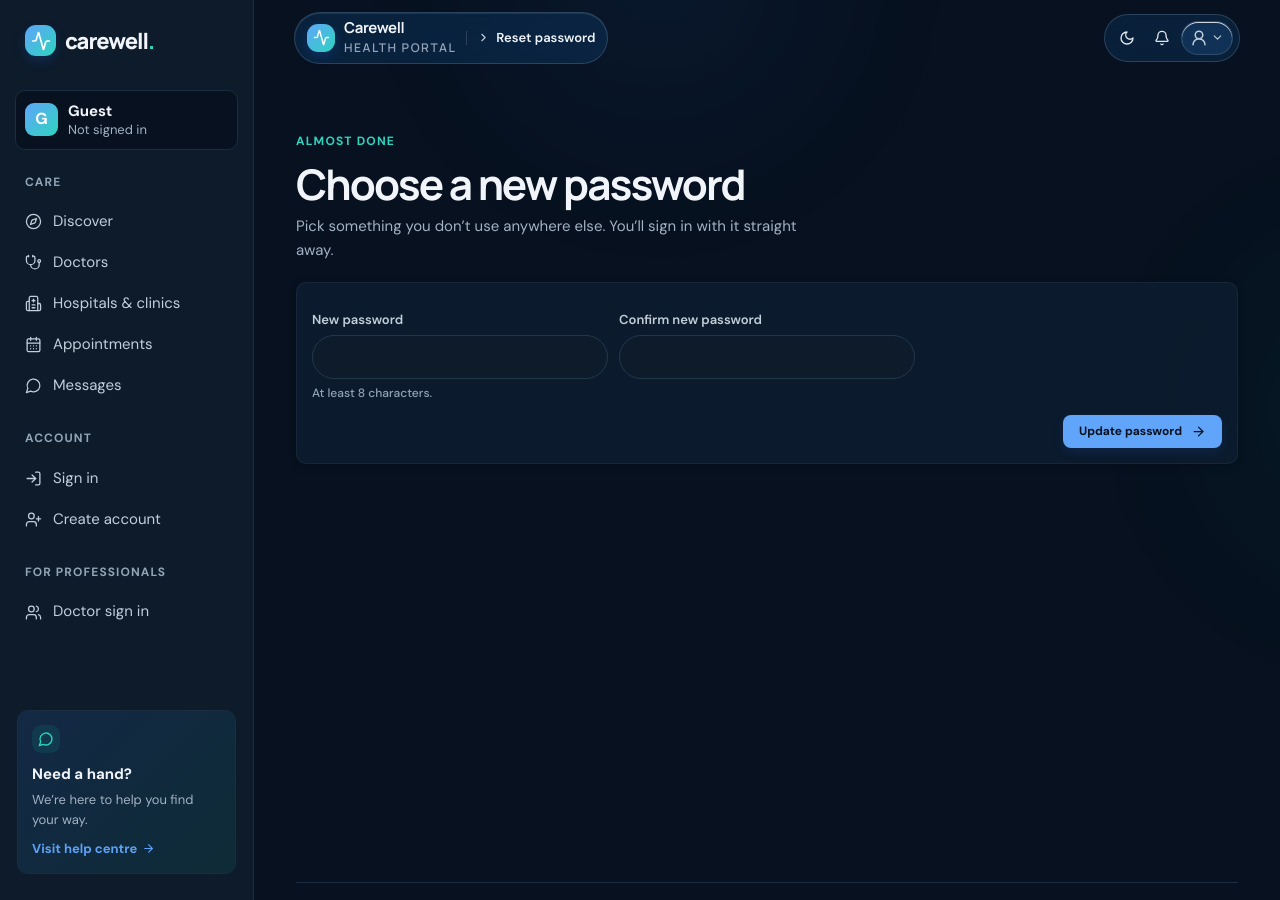
reset password screen › checks the new password before submitting
The width and height of the screenshot is (1280, 900).
Type "short" into the password field labelled "New password At least 8 characters." at (460, 357), box [312, 335, 608, 379]
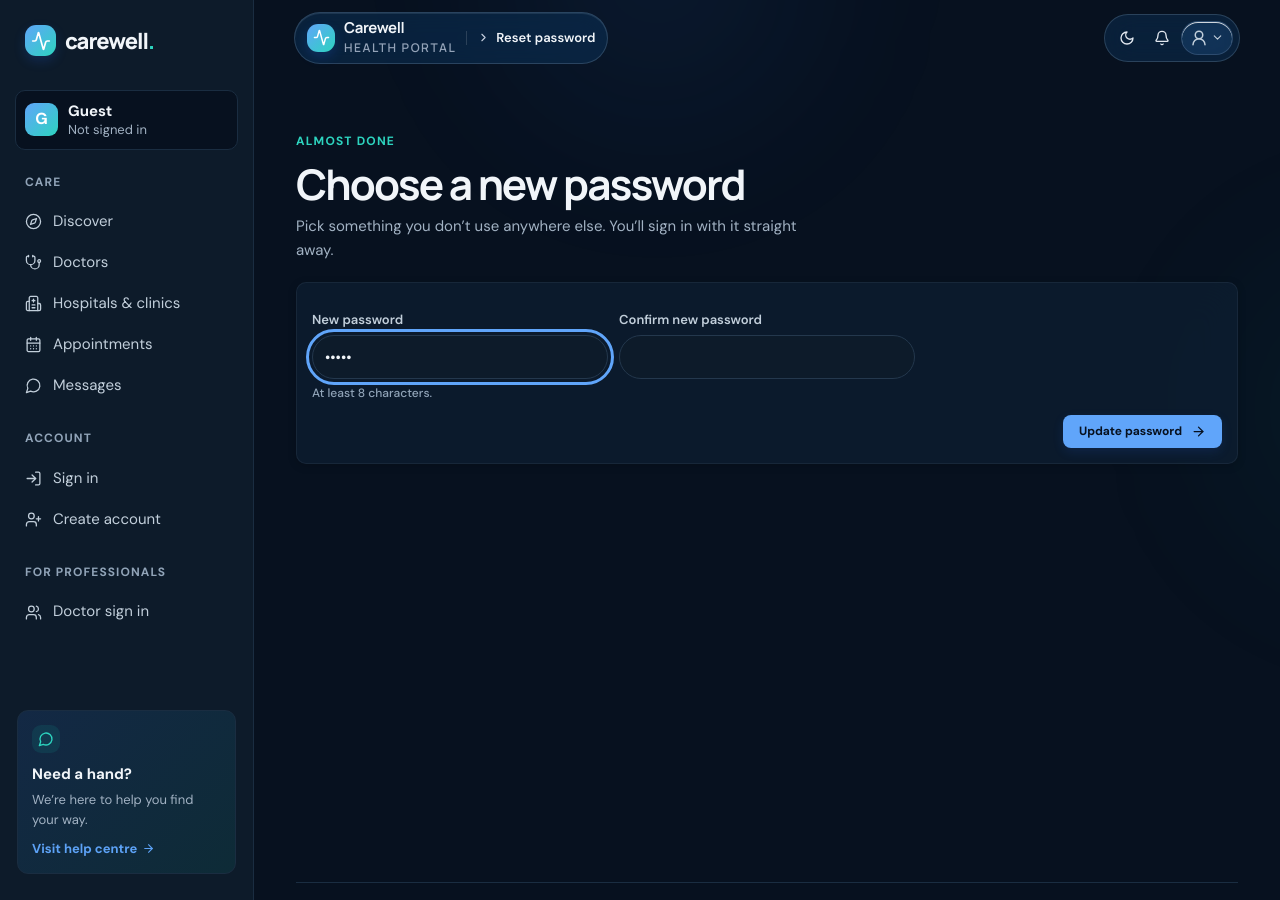
Type "different" into the password field labelled "Confirm new password" at (767, 357), box [619, 335, 915, 379]
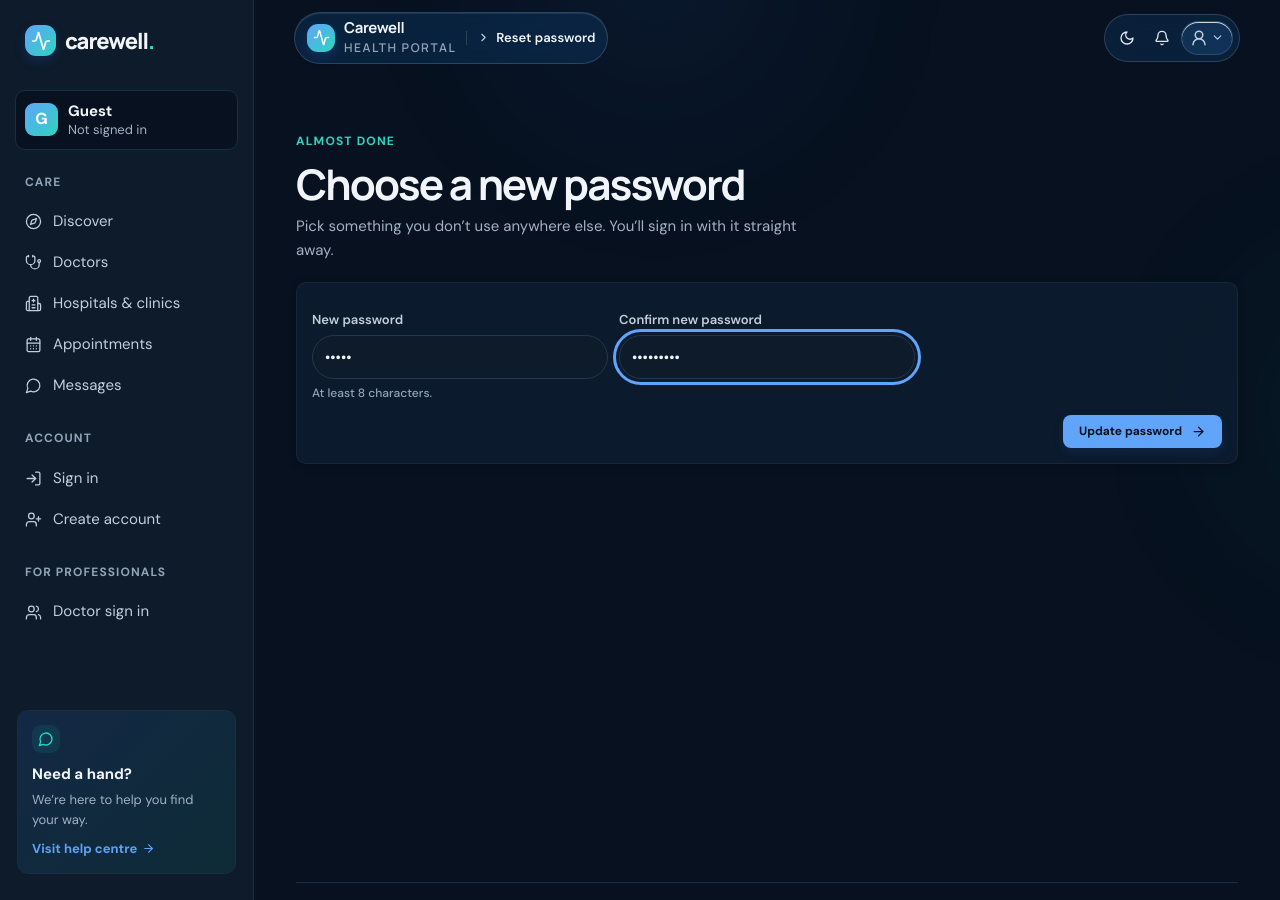
Click the button "Update password" at (1142, 431), box [1063, 415, 1222, 448]
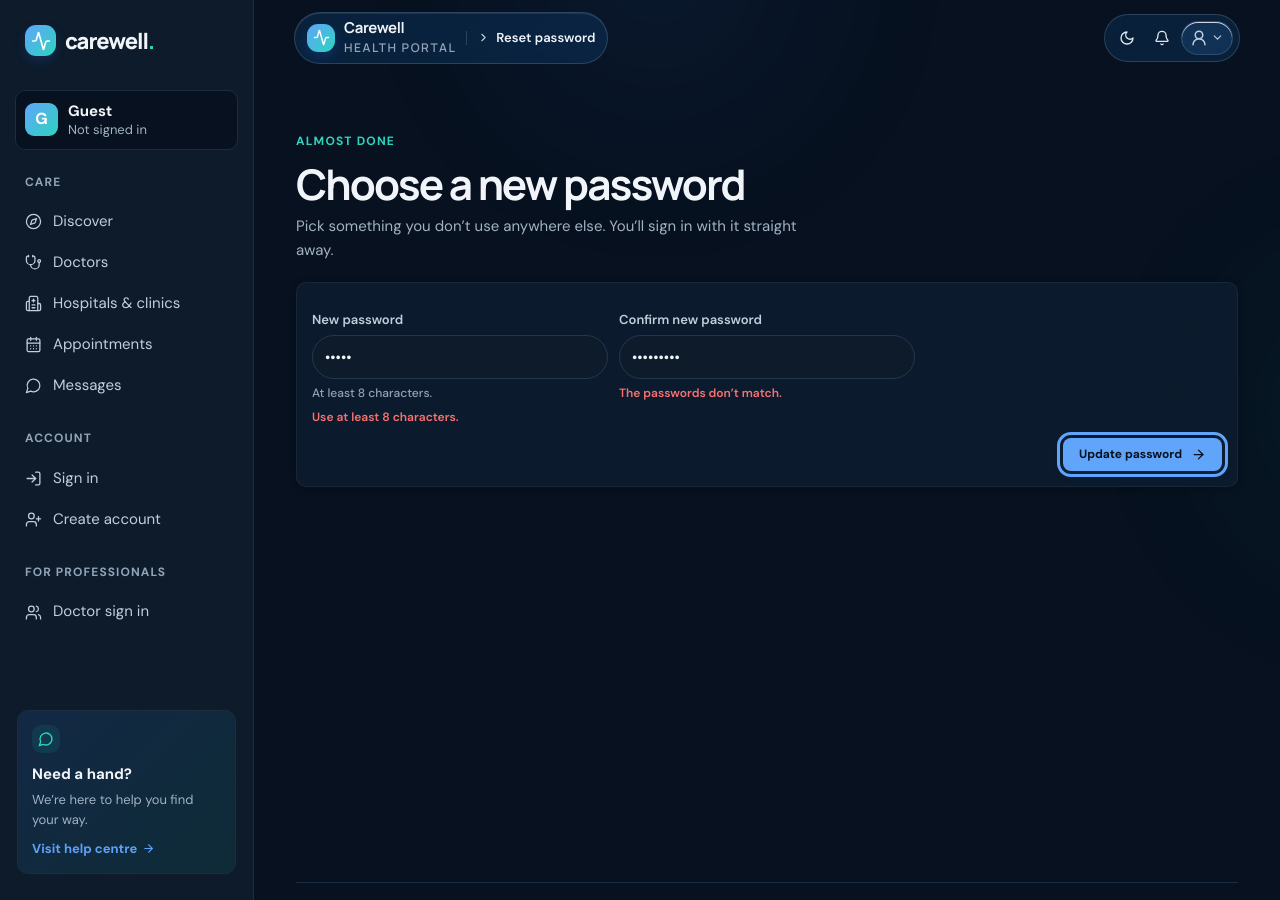
expect the text "Use at least 8 characters." is shown: met, box [312, 409, 459, 425]
expect the text "The passwords don’t match." is shown: met, box [619, 385, 782, 401]
